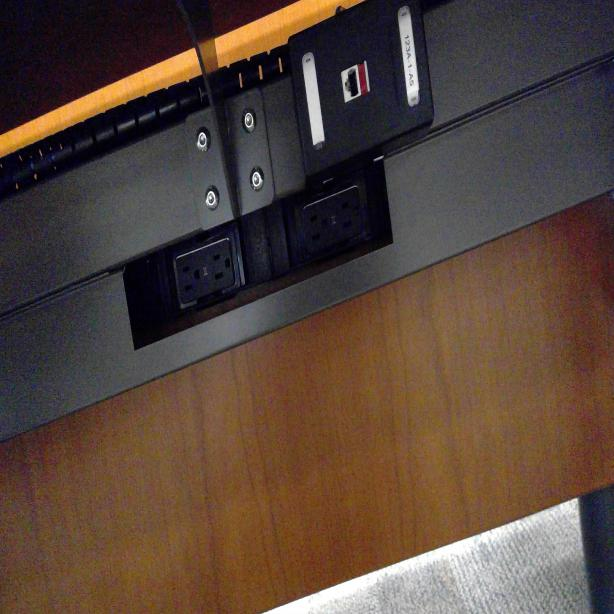typeb: (178, 252, 204, 304), (206, 244, 232, 289), (306, 208, 332, 252), (336, 193, 361, 238)
